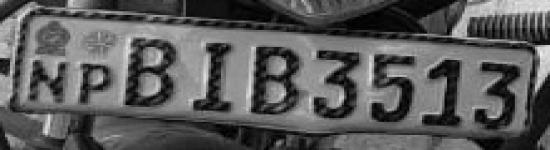1: (419, 52, 471, 130)
3: (306, 45, 364, 124), (472, 55, 524, 131)
5: (364, 49, 420, 124)
B: (240, 40, 306, 122), (121, 33, 182, 113)
I: (187, 39, 242, 115)
N: (25, 57, 71, 104)
P: (72, 61, 117, 108)
